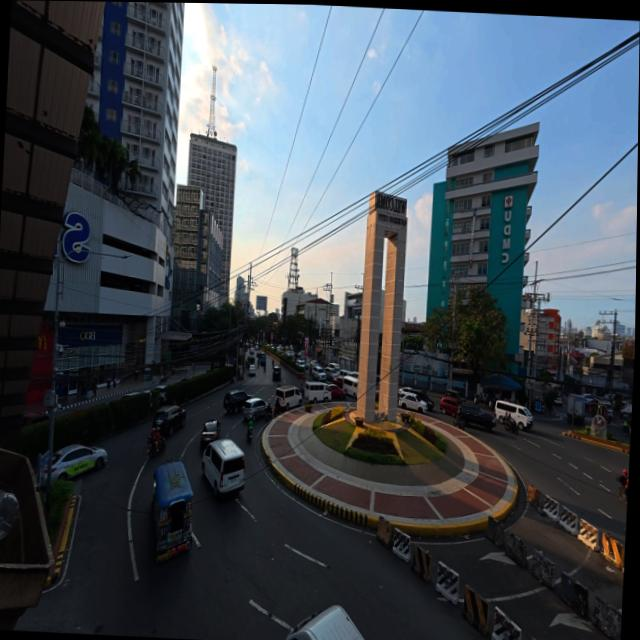car: (456, 403, 498, 433), (154, 404, 189, 437), (396, 385, 433, 410), (242, 397, 273, 424), (221, 388, 249, 415), (198, 419, 219, 441), (439, 396, 461, 415)
vans: (196, 437, 247, 502), (488, 402, 532, 433), (299, 380, 330, 404)
